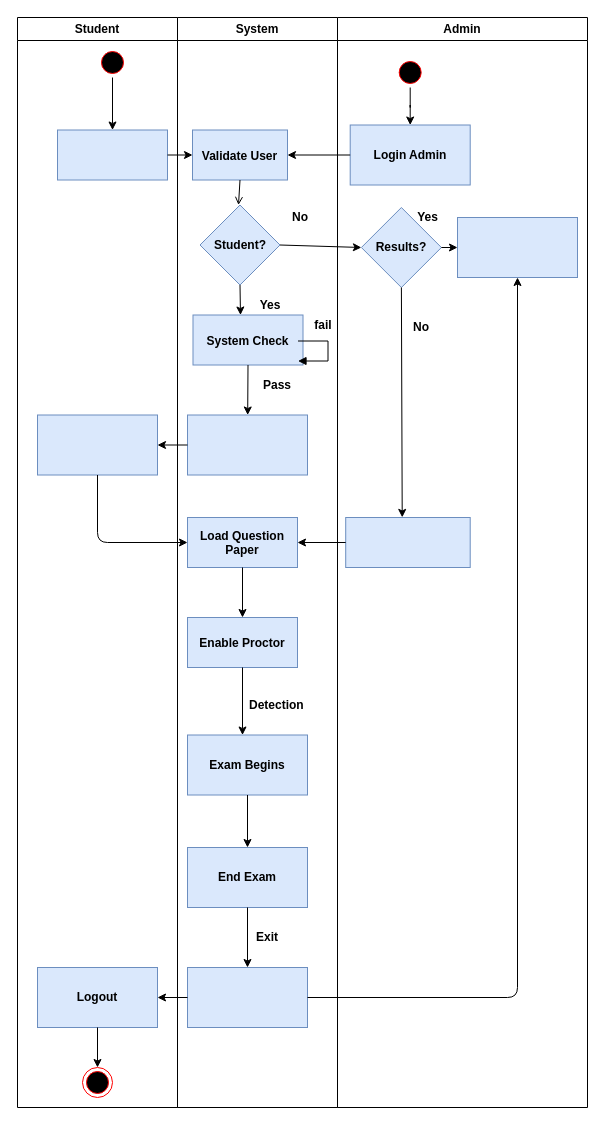
The diagram is 605 pixels wide and 1125 high, and some of its shapes have lost their labels. The centre of each missing label's shape, as x and y in pixels:
Login Student: pixel 112 154
Provide Exam Code: pixel 97 444
Provide Exam Code & Form Link: pixel 407 542
Show Results: pixel 517 247
Student Verification: pixel 247 444
Submit Results: pixel 247 997
